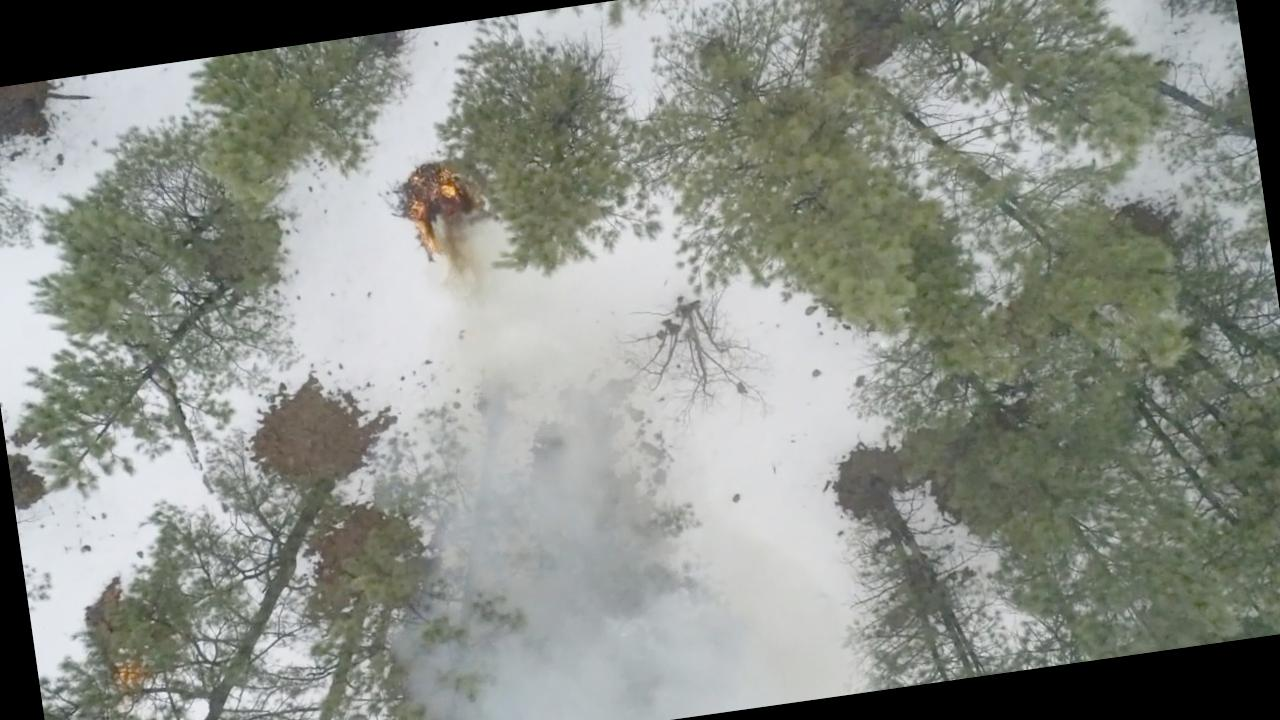fire: (400, 164, 474, 258)
smoke: (375, 456, 737, 720)
